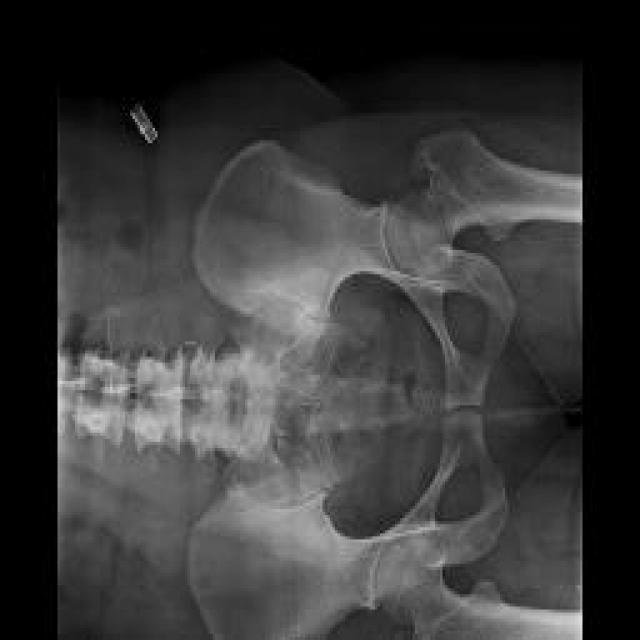normal: (193, 133, 585, 409), (188, 413, 583, 640)
